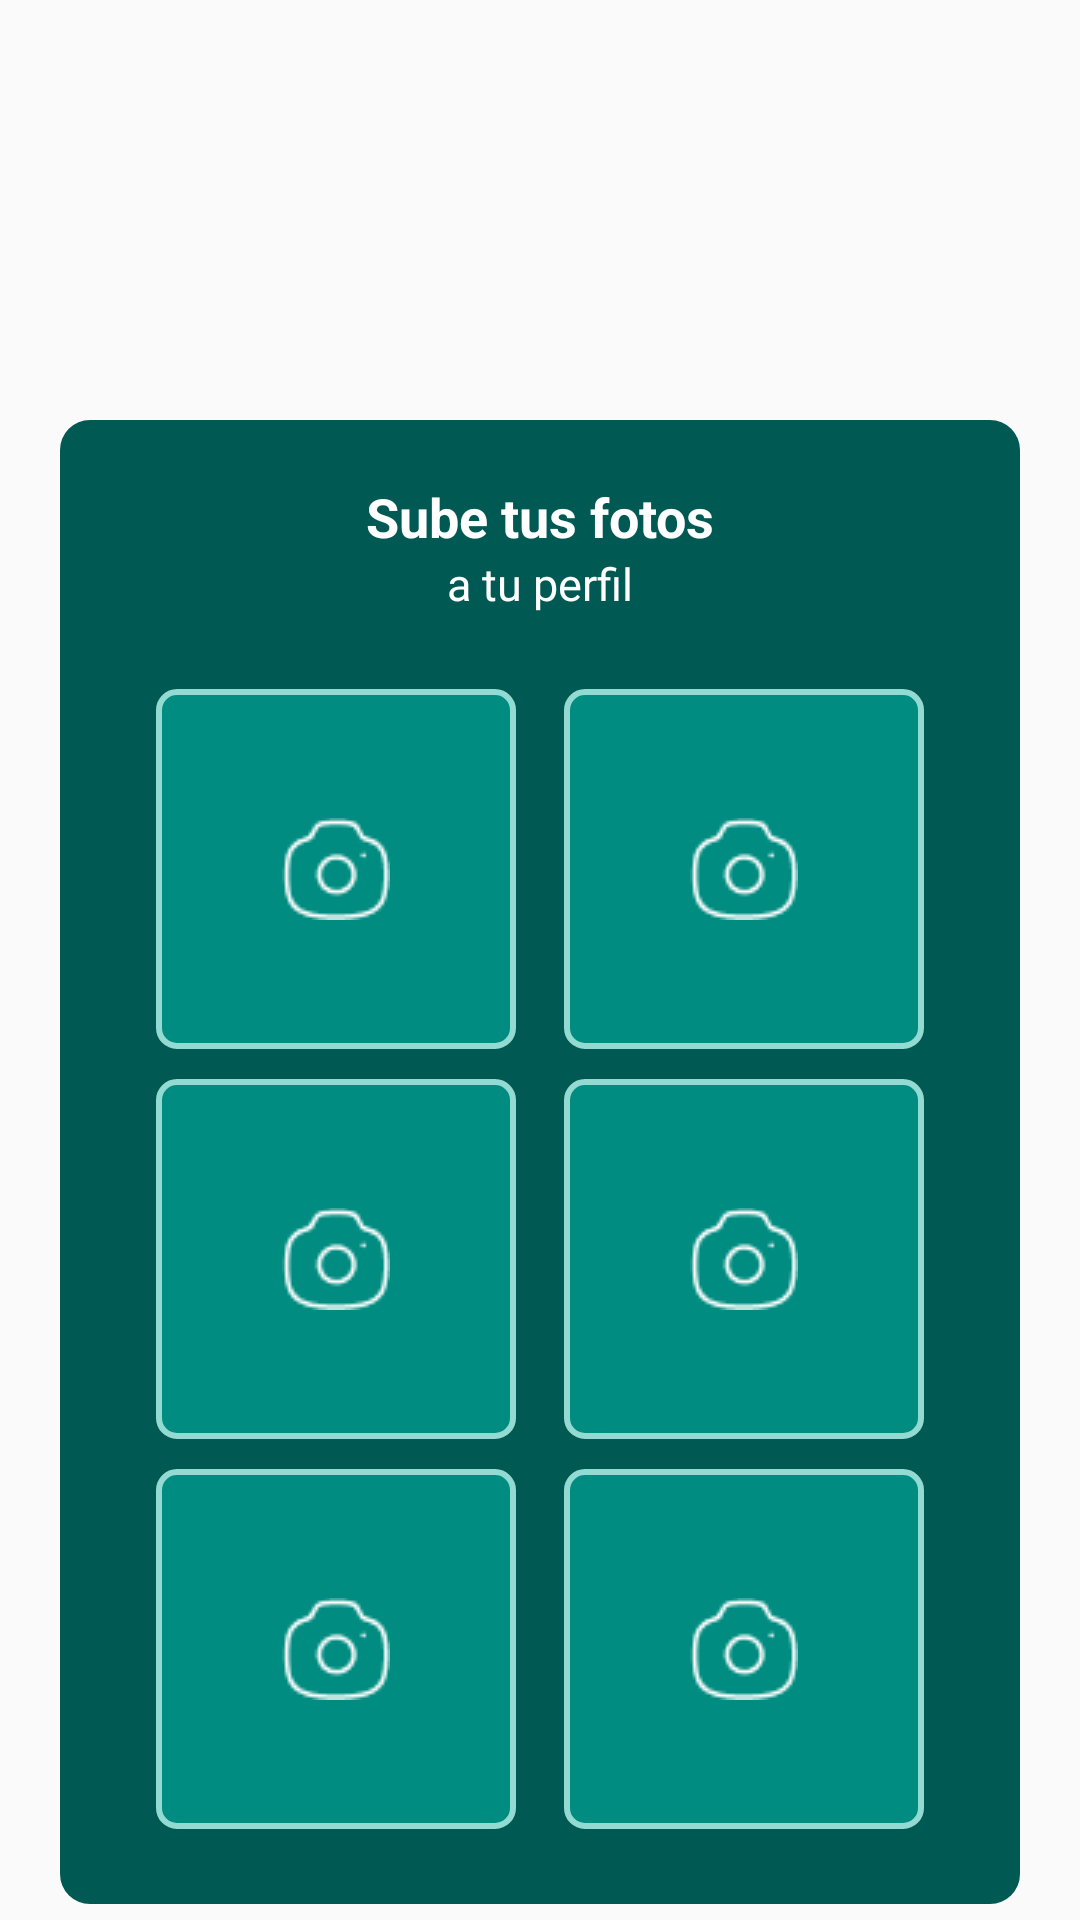

Icons on this 1080x1920 Android screen, each with the point to tap as (x=x, y=y):
camera: (x=336, y=869), (x=744, y=869), (x=336, y=1259), (x=744, y=1259), (x=336, y=1649), (x=744, y=1649)
